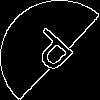P: (25, 25, 84, 81)
